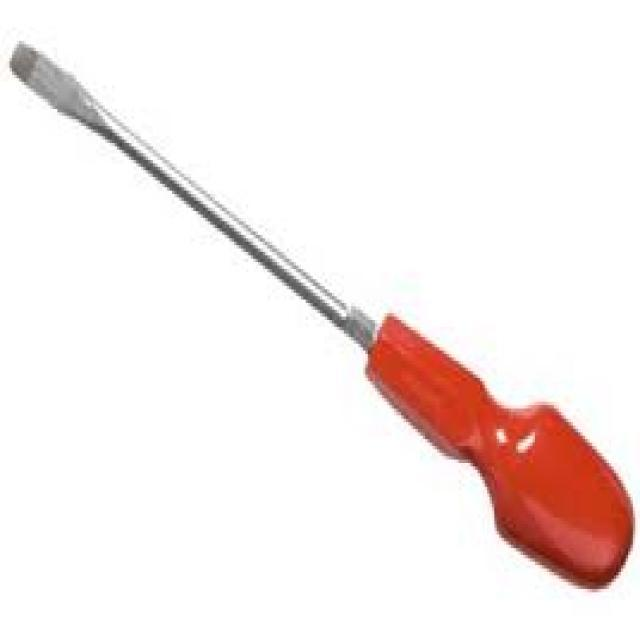screwdriver: (6, 36, 636, 590)
